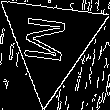M_E: (25, 16, 77, 67)
